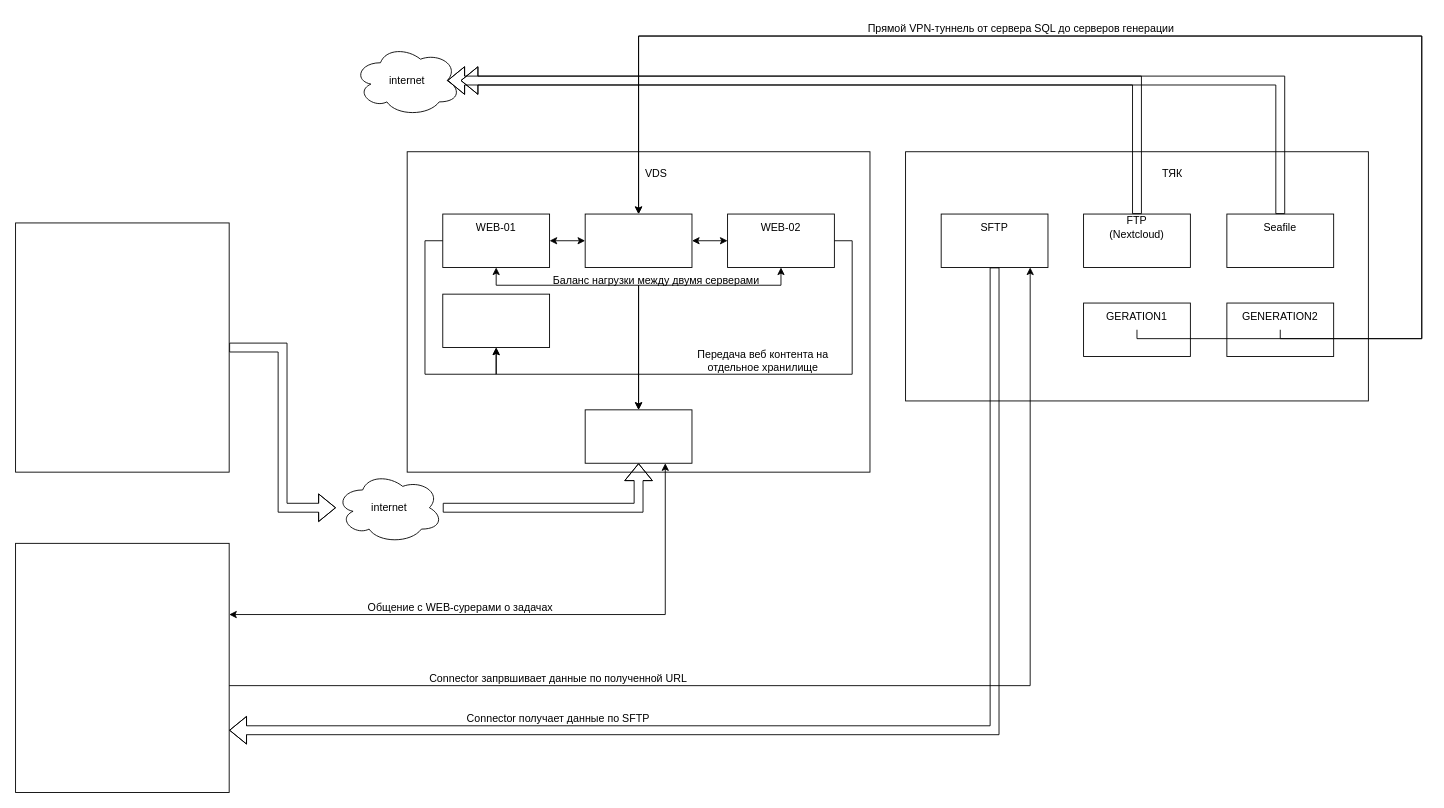
The diagram is 1444 pixels wide and 808 high, and some of its shapes have lost their labels. The box of each missing label's shape, as (x1, y1, x2, y2) in pixels:
ALL-CATS: (15, 542, 229, 793)
BALANCER: (584, 409, 692, 463)
Managers: (15, 222, 229, 472)
SQL: (584, 213, 692, 267)
WEB-DATA: (442, 293, 550, 348)
